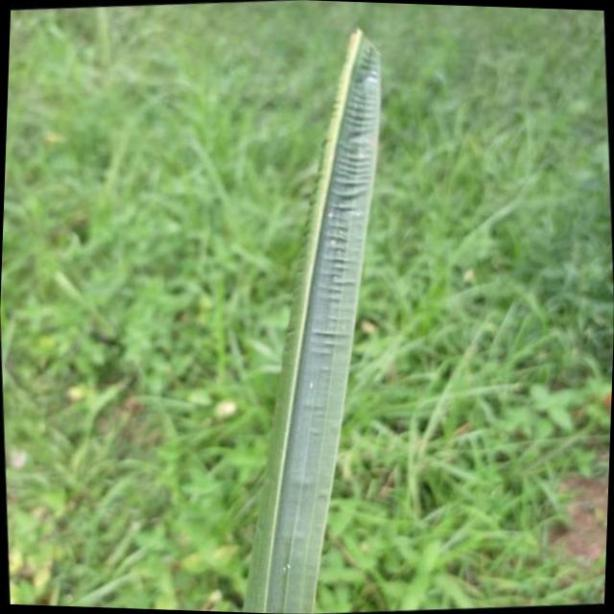Boron: (240, 24, 385, 614)
